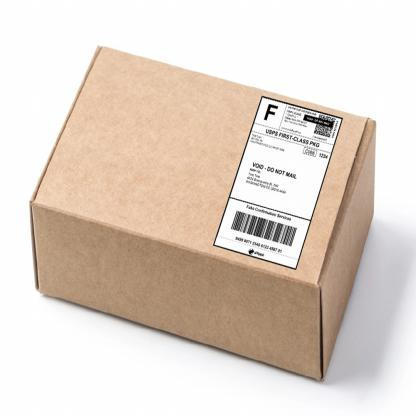package: (25, 31, 382, 394)
